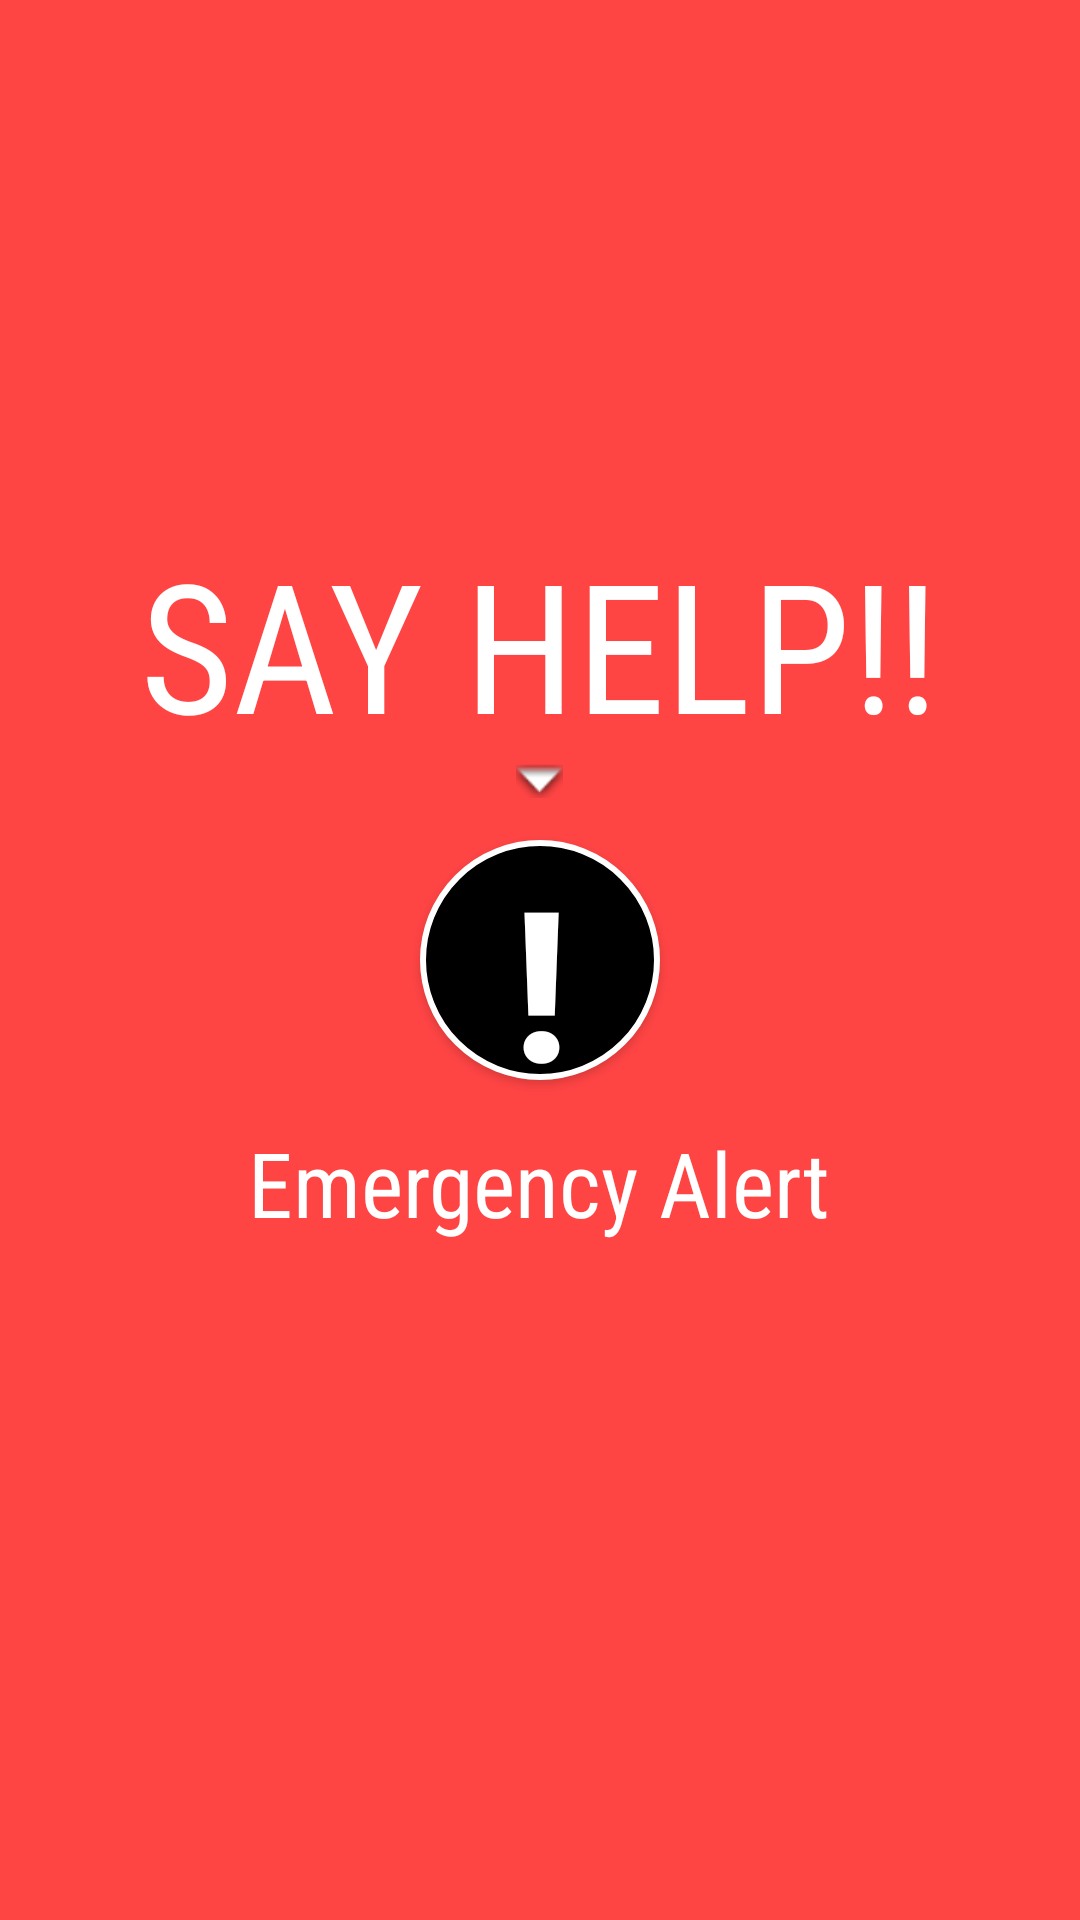

Icon click points for this 1080×1920 phone screenshot, format [x,y]:
down arrow: [539,781]
